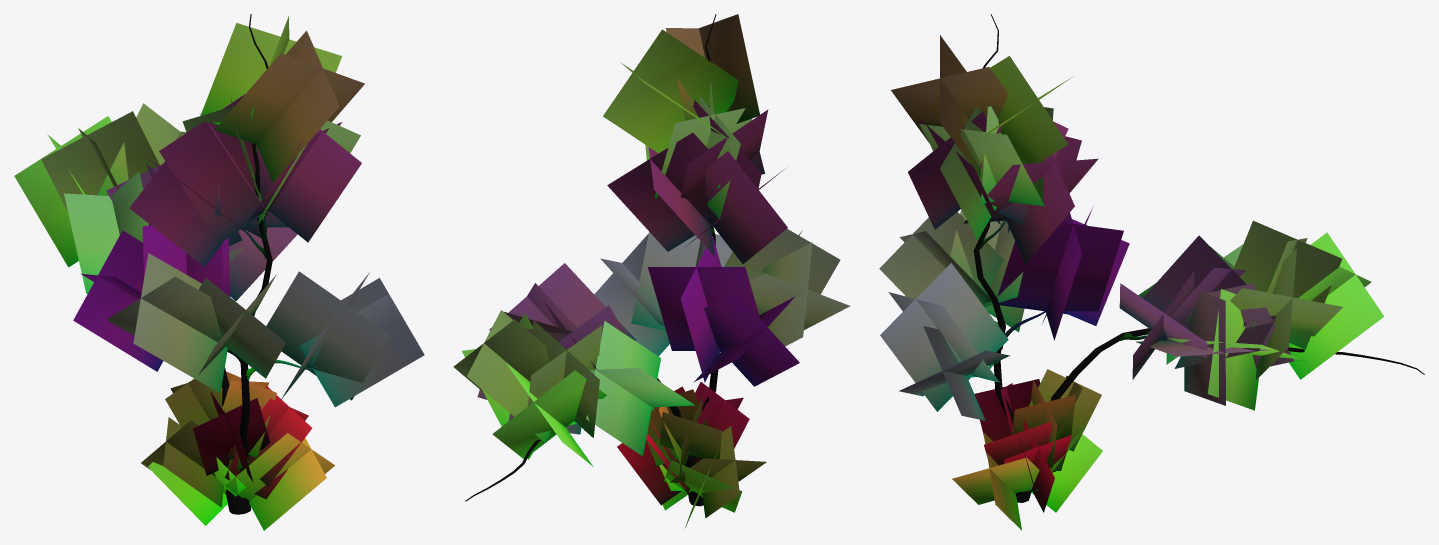
File: URP_P12_Tree_9_LOD_1.fbx
3 renders of one model, left to right at view 1: azimuth 30°, elevation 25°; view 2: azimuth 150°, elevation 25°; view 3: azimuth 270°, elevation 25°, orthographic. The views are drawn at different scales.
Visible parts, largest first — view 1: Tree_9_LOD_1; view 2: Tree_9_LOD_1; view 3: Tree_9_LOD_1.
Boxes of the visible parts, box(x1,y1,x2,y2) form: Tree_9_LOD_1: box(14, 14, 424, 530); Tree_9_LOD_1: box(453, 14, 850, 527); Tree_9_LOD_1: box(879, 14, 1424, 530).
Size of the model in its own units: 196 by 349 by 345.
